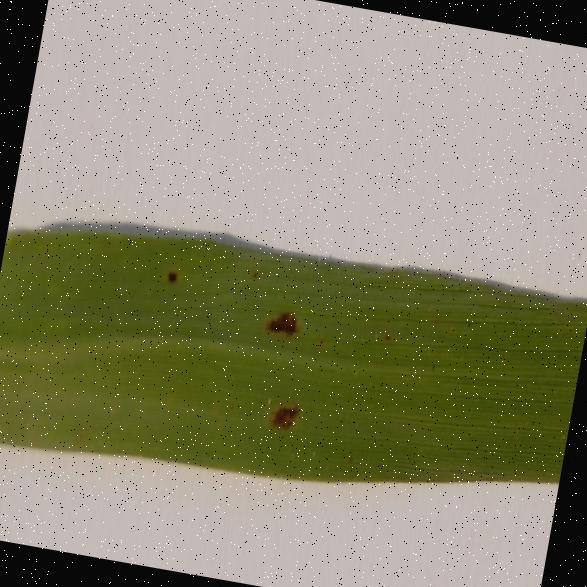Brown_Spot: (253, 277, 324, 372), (264, 389, 318, 446), (153, 254, 192, 306)
